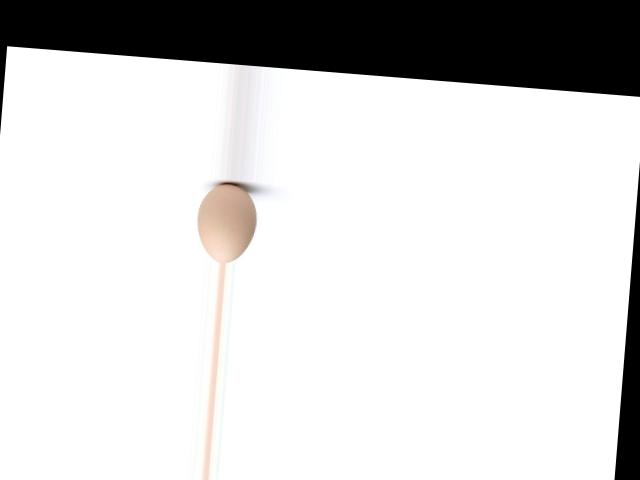egg: (193, 180, 258, 264)
